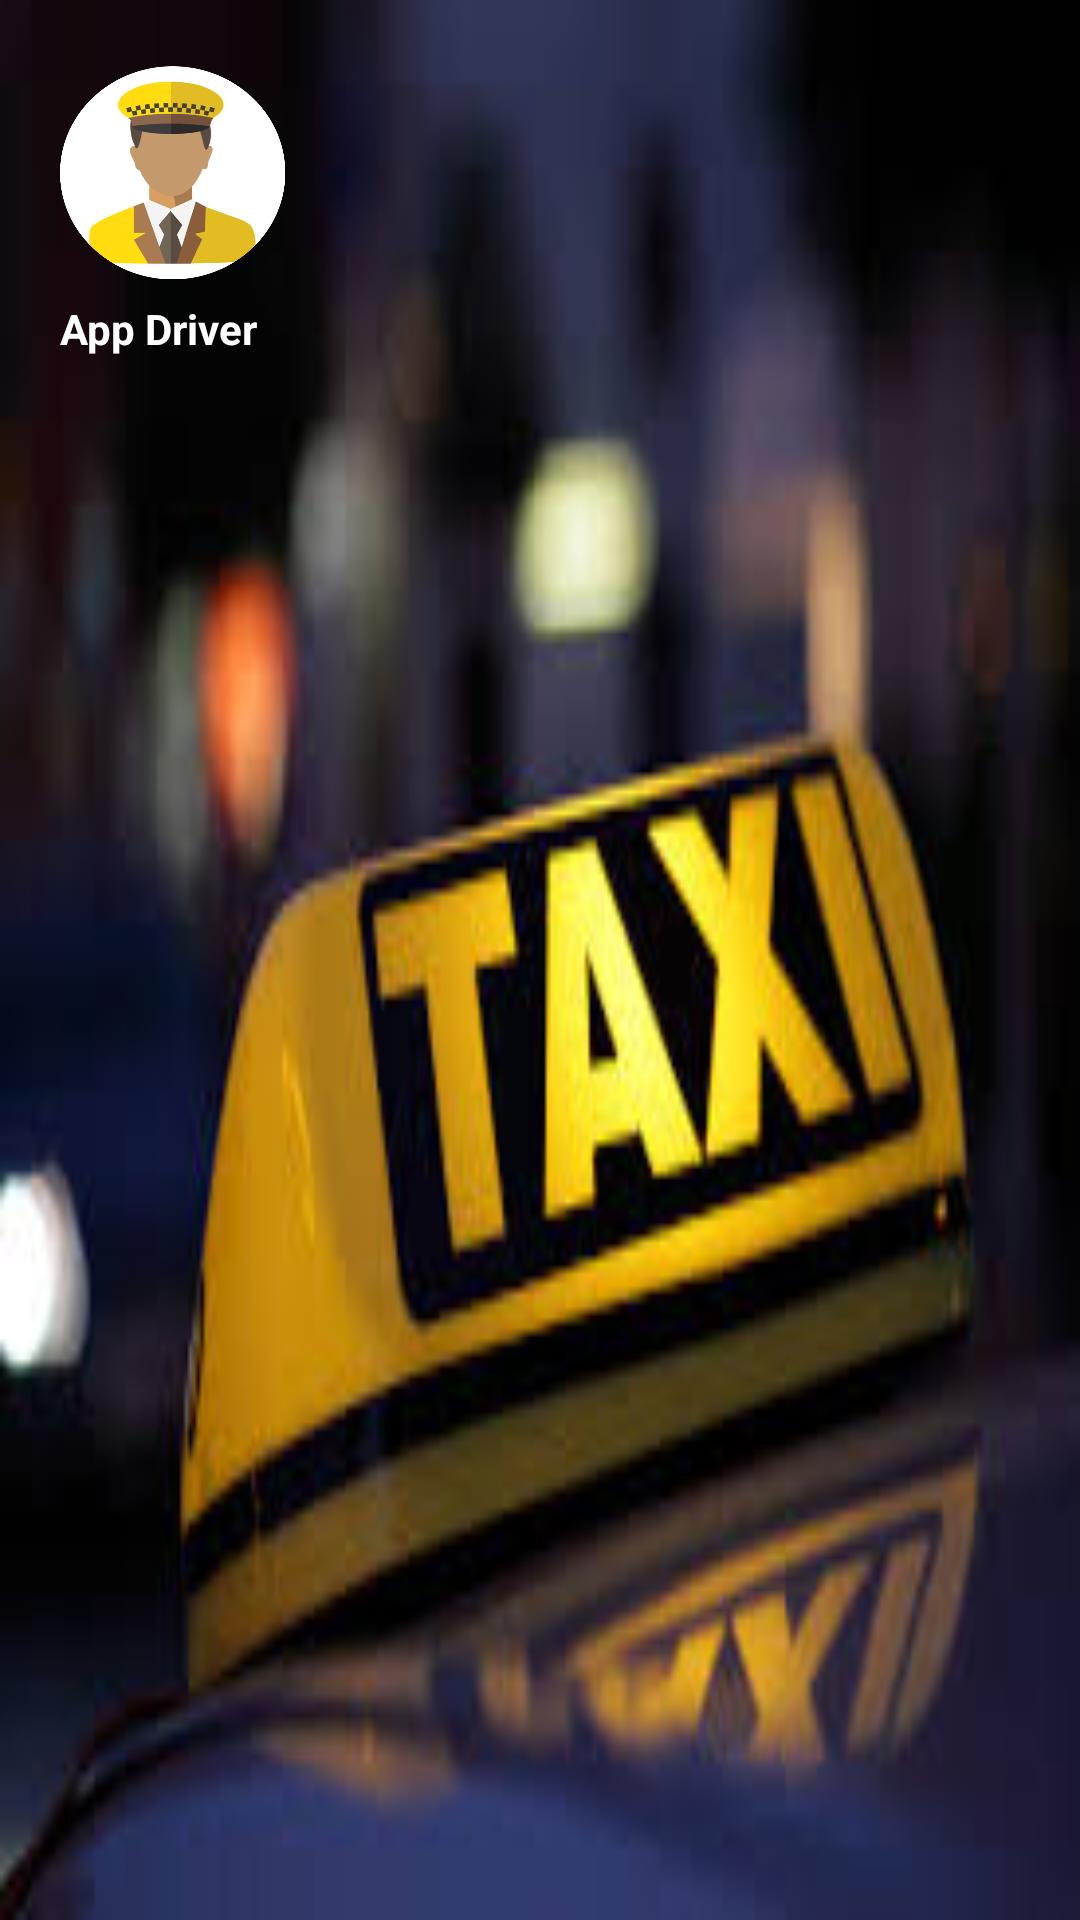

Where to tap for icons on this 1080*1920 app screen, as [x,y]:
taxi driver: [172,172]
